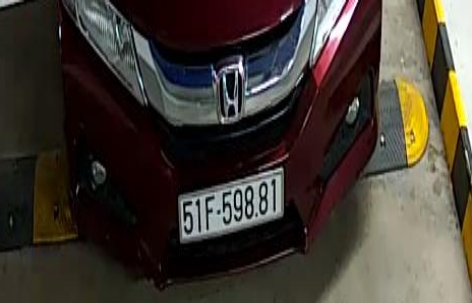plate: (173, 171, 289, 241)
